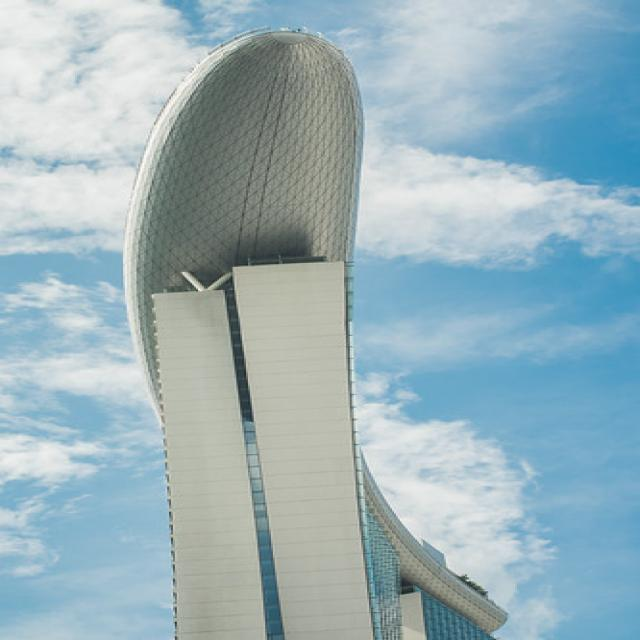Normal_building: (117, 24, 460, 639)
